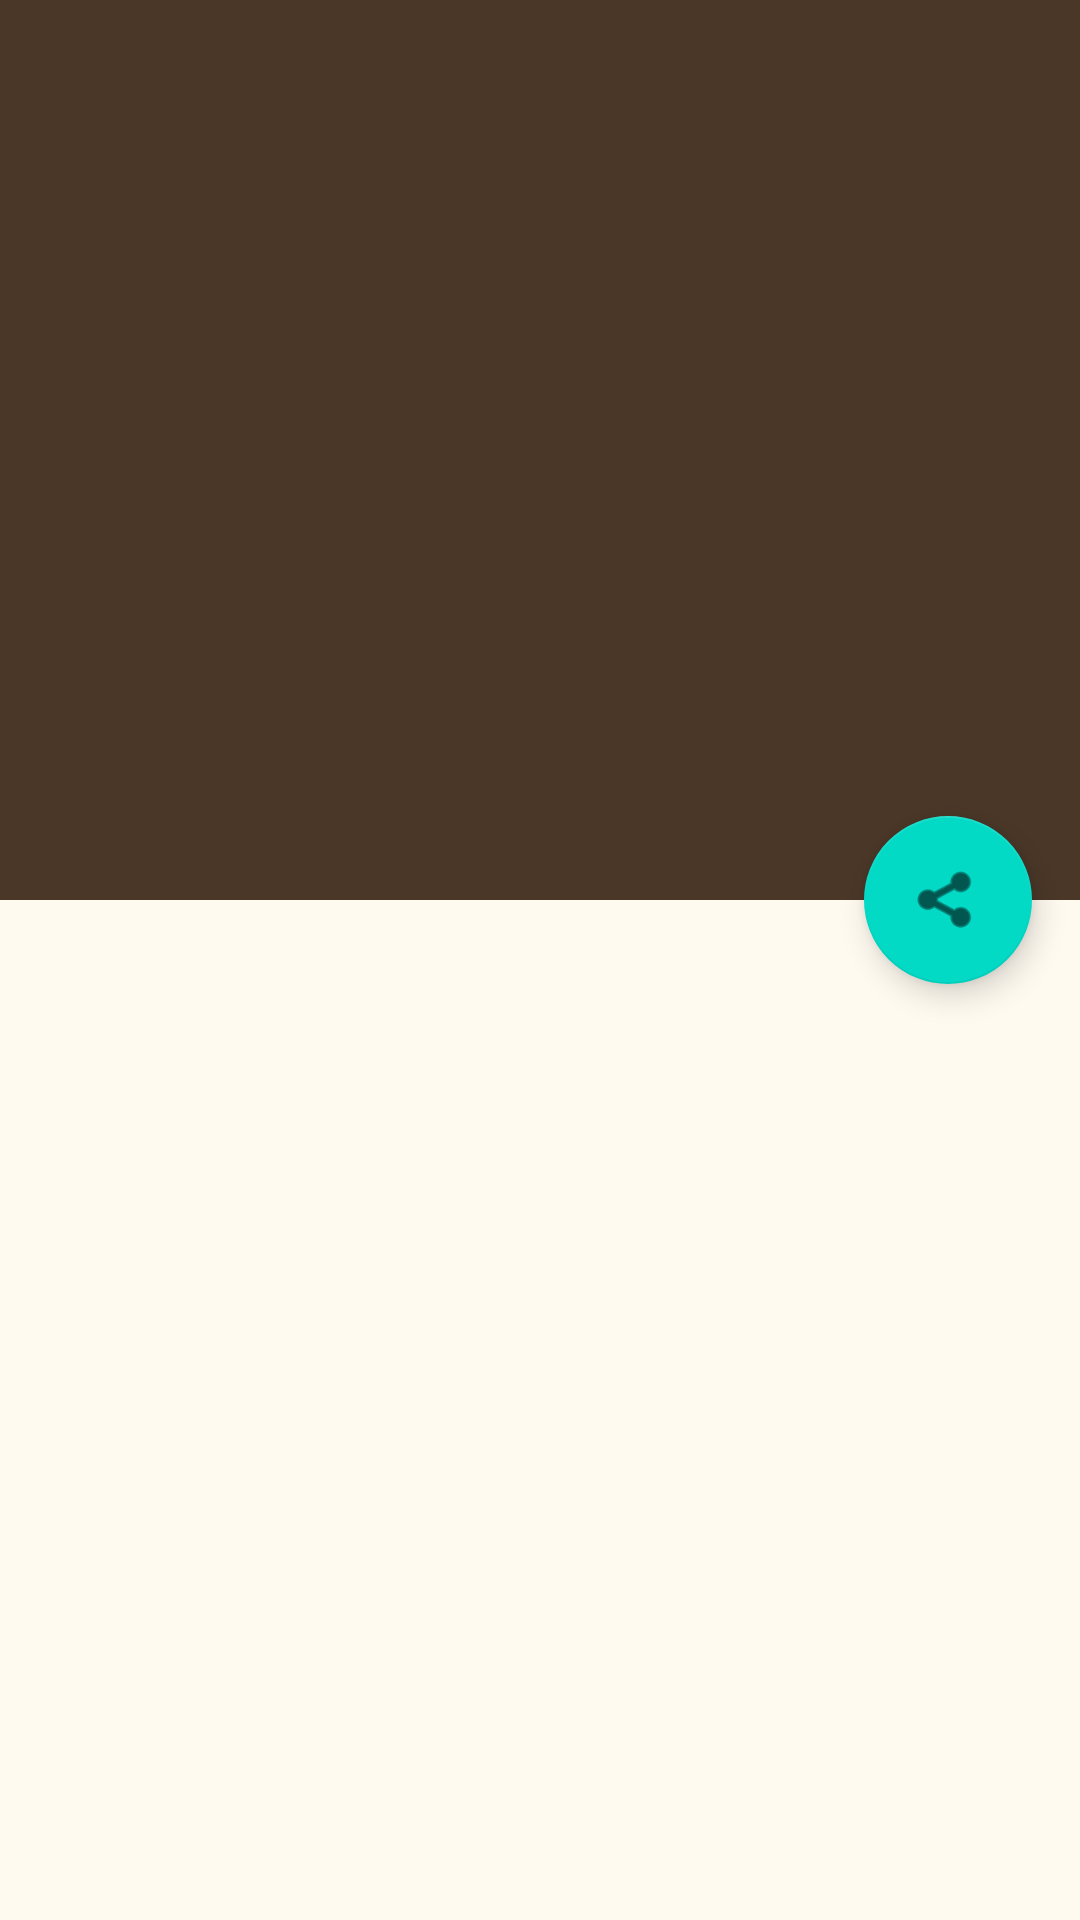

Screen size 1080×1920. Icon name, then its center in pixels as [x,y]:
share: [948,900]
